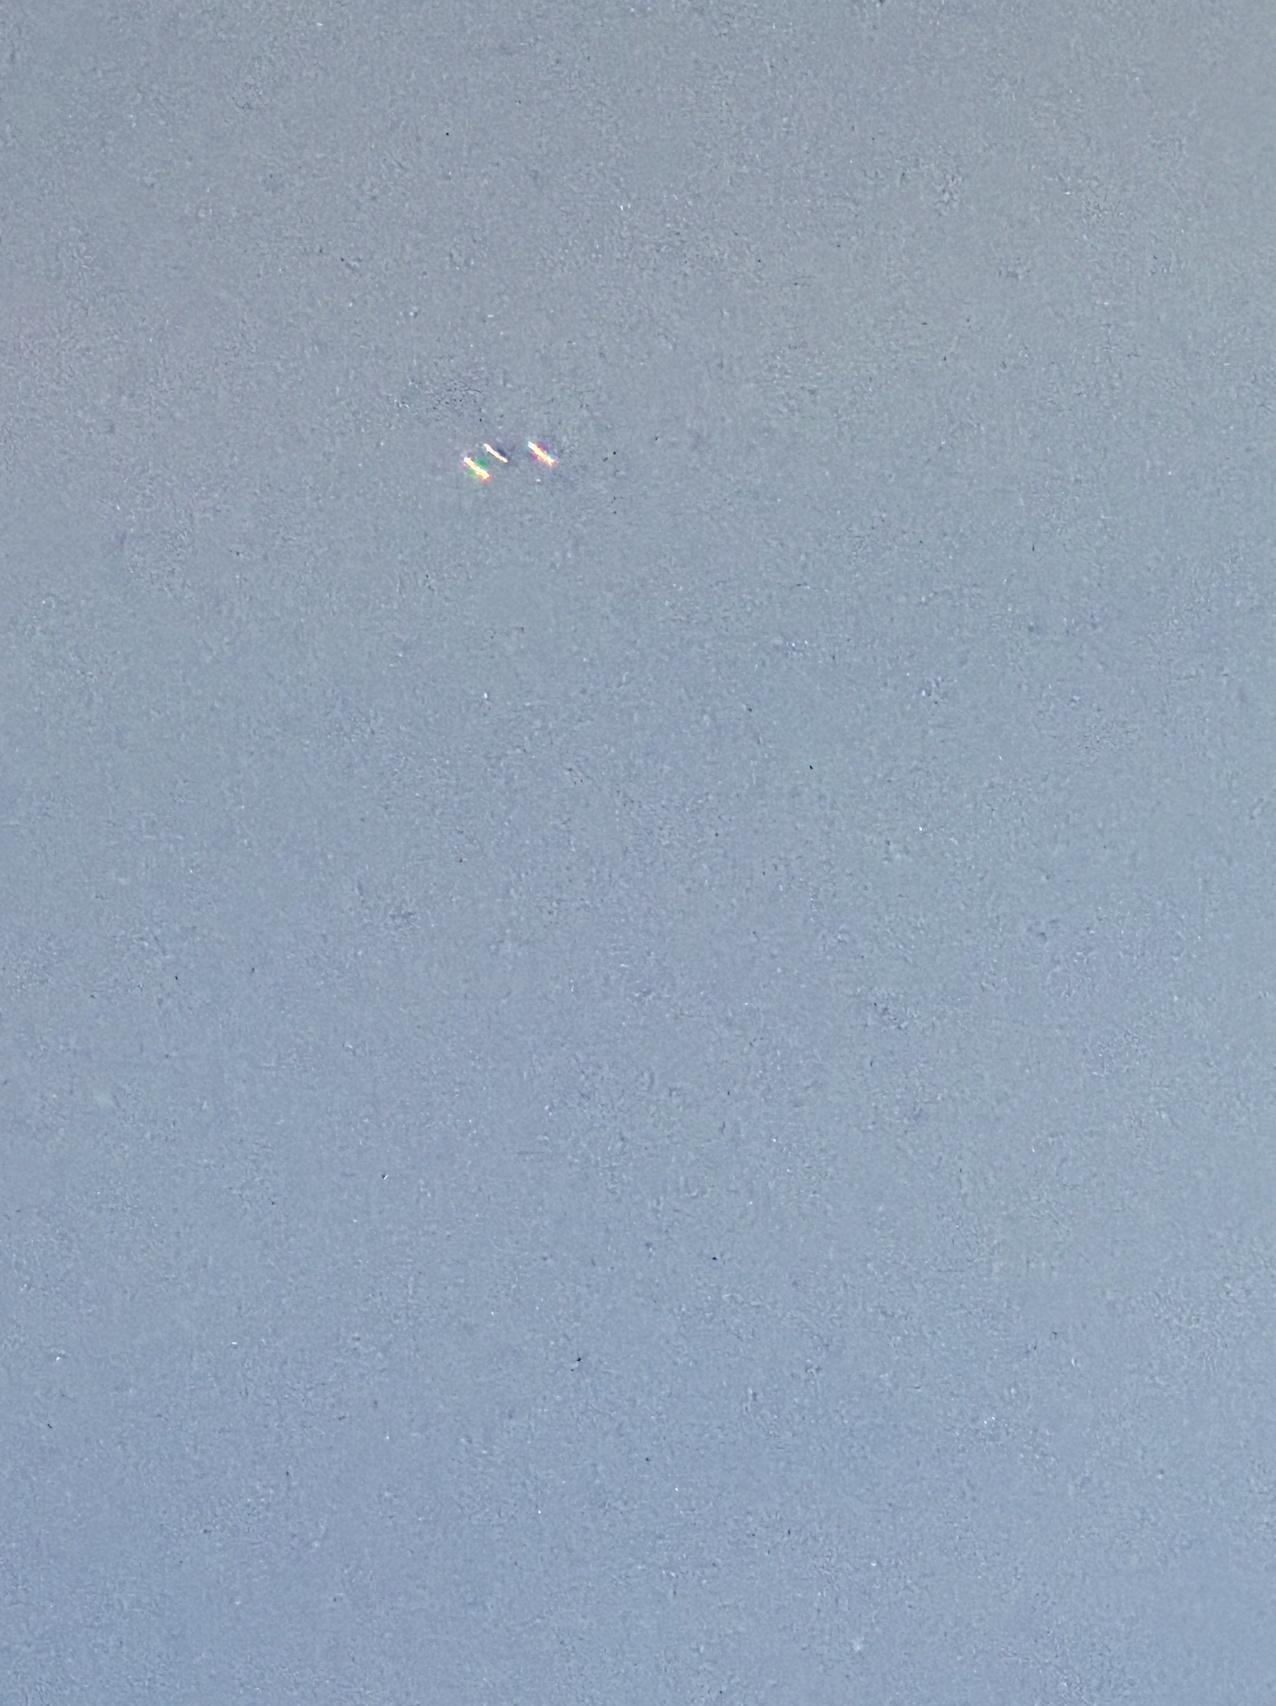Plane: (428, 413, 587, 501)
